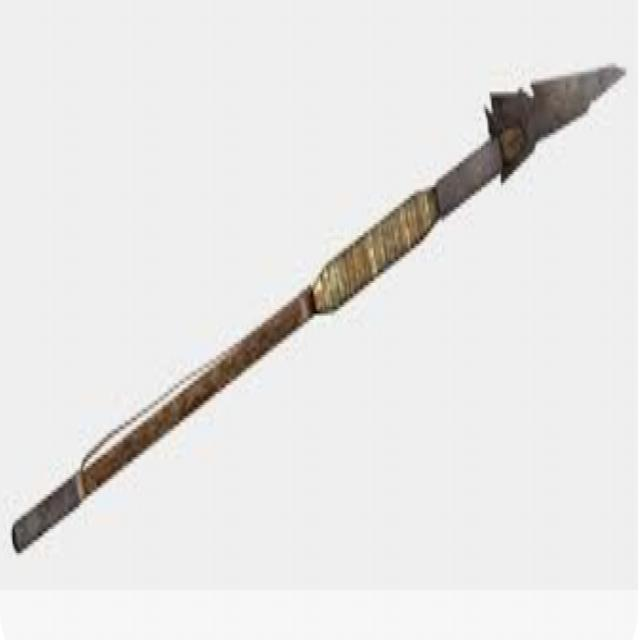spear: (5, 48, 629, 564)
